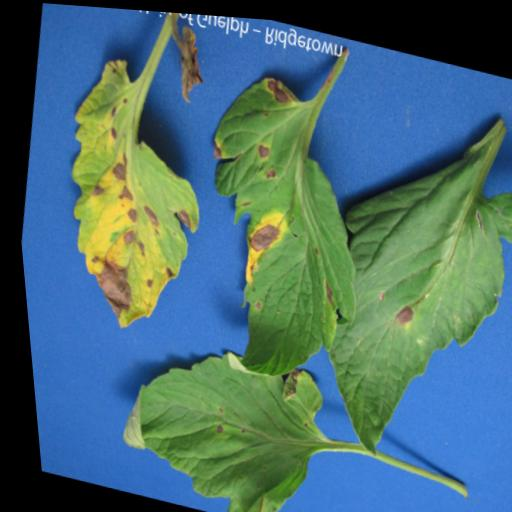Early Blight: (286, 66, 512, 484), (164, 53, 387, 394), (26, 42, 224, 350), (92, 321, 327, 512)
